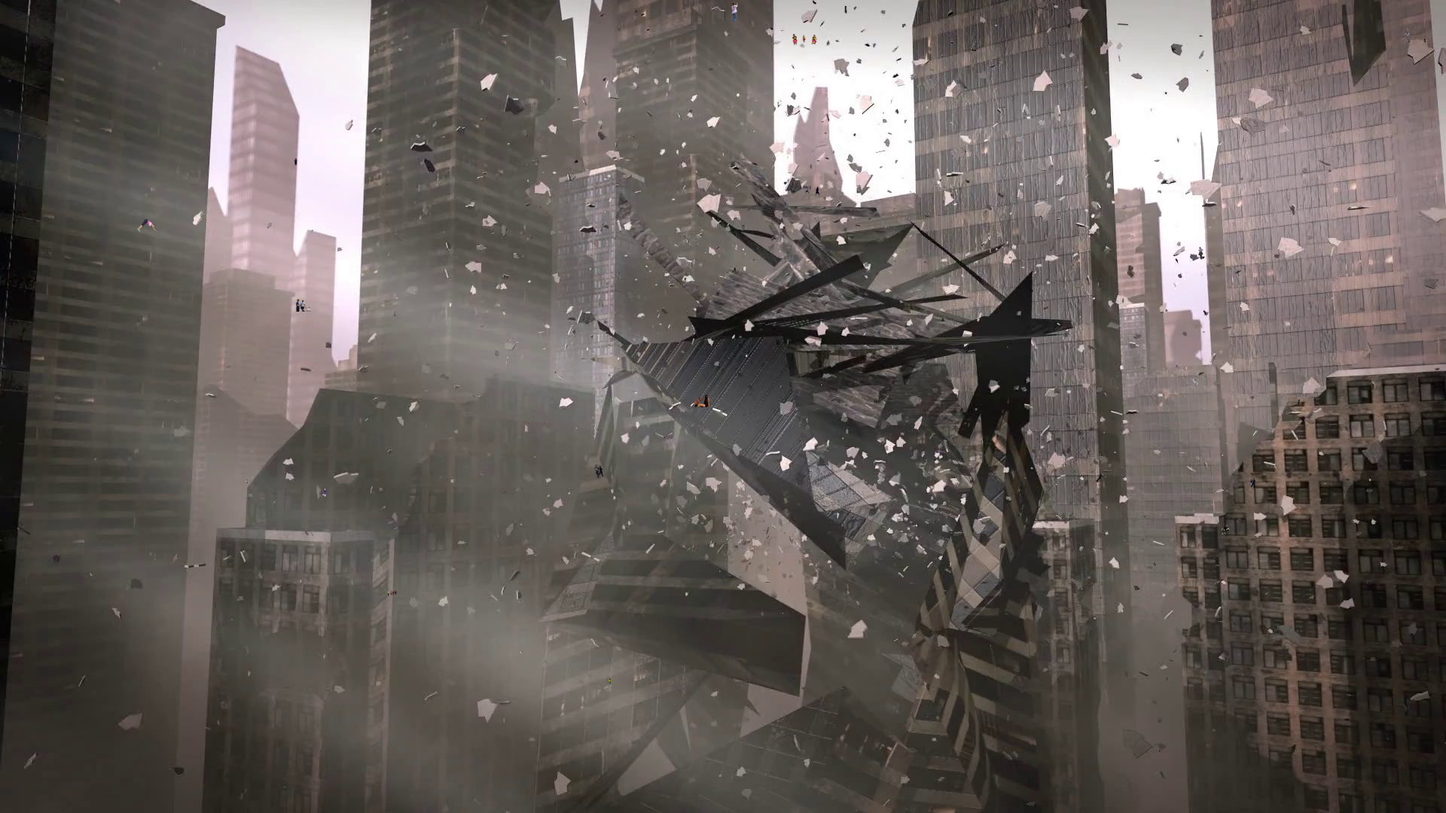Human: (1403, 31, 1427, 43), (137, 219, 159, 232), (797, 185, 820, 197), (792, 34, 817, 45), (693, 394, 712, 408), (1105, 132, 1121, 148), (1240, 478, 1255, 492), (296, 299, 311, 312), (1087, 222, 1100, 236), (1173, 240, 1186, 254), (1237, 301, 1251, 313), (1202, 198, 1218, 208), (407, 400, 419, 413), (830, 109, 844, 120), (731, 1, 738, 22), (1091, 199, 1103, 211), (1096, 473, 1107, 486), (594, 464, 604, 478), (298, 364, 313, 373), (1126, 264, 1135, 278), (1155, 169, 1166, 180), (1200, 307, 1211, 318), (1161, 87, 1171, 99), (1173, 133, 1183, 145), (1195, 369, 1207, 379), (1188, 252, 1200, 262), (1158, 303, 1170, 313), (1232, 265, 1244, 275), (1161, 177, 1175, 185), (1174, 270, 1185, 280), (1272, 250, 1283, 260), (1171, 254, 1182, 264), (1150, 154, 1162, 163), (1289, 202, 1298, 214), (862, 40, 877, 47), (1126, 407, 1139, 415), (1182, 187, 1193, 196), (853, 56, 864, 65), (892, 54, 904, 62), (879, 115, 889, 124), (1197, 252, 1207, 261), (850, 129, 859, 139), (1103, 244, 1112, 254), (1221, 525, 1230, 534), (893, 107, 902, 116), (847, 105, 856, 114), (818, 20, 827, 29), (879, 67, 889, 75), (1155, 187, 1165, 195), (810, 0, 819, 8), (824, 38, 832, 47), (888, 95, 896, 104), (892, 157, 901, 165), (1171, 279, 1179, 288), (857, 26, 867, 33), (1198, 247, 1203, 260), (901, 117, 909, 125), (1180, 330, 1189, 337), (387, 590, 397, 596), (321, 489, 327, 498), (852, 5, 859, 12), (935, 449, 947, 453), (607, 678, 612, 684), (732, 267, 736, 273), (294, 158, 297, 166), (1298, 399, 1301, 406), (697, 285, 700, 288), (1250, 559, 1252, 563), (1159, 749, 1161, 752), (246, 480, 248, 483), (1356, 41, 1358, 43), (386, 183, 388, 185), (693, 548, 694, 551), (521, 488, 523, 489)
